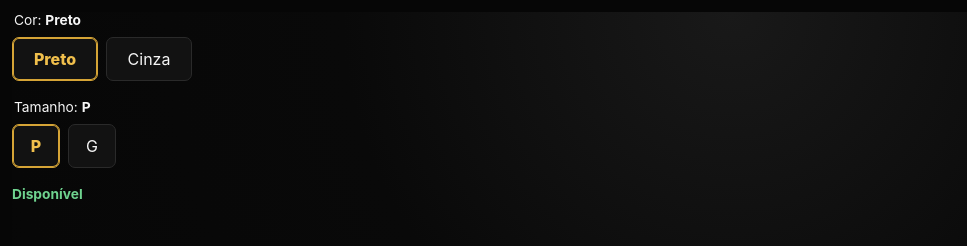
ProductVariantSelector › seleciona cor e impede tamanho indisponível na combinação
Click the button "G" at [92, 146], box [68, 124, 116, 168]
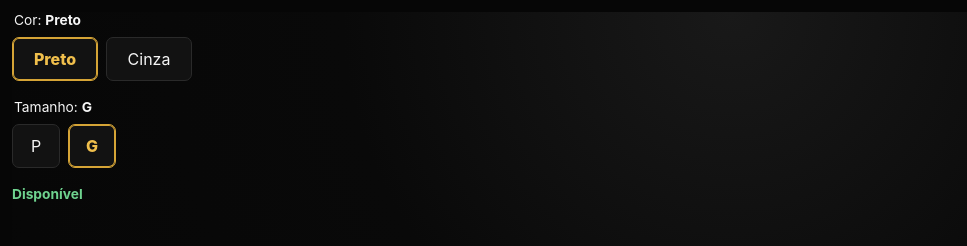
Check: the button "G" is pressed, box [68, 124, 116, 168]
Click the button "Cinza" at [149, 59], box [106, 37, 192, 81]
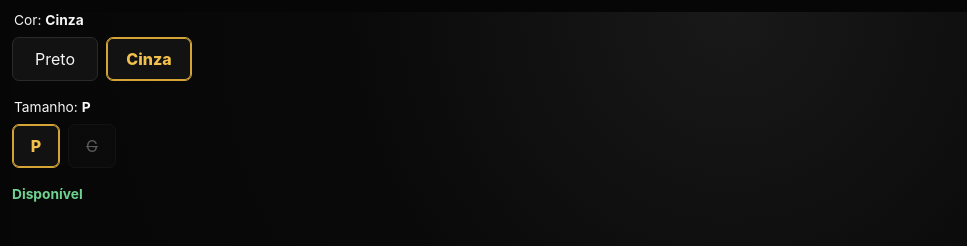
Check: the text "Disponível" is shown, box [12, 186, 83, 202]
Check: the button "G" is disabled, box [68, 124, 116, 168]
